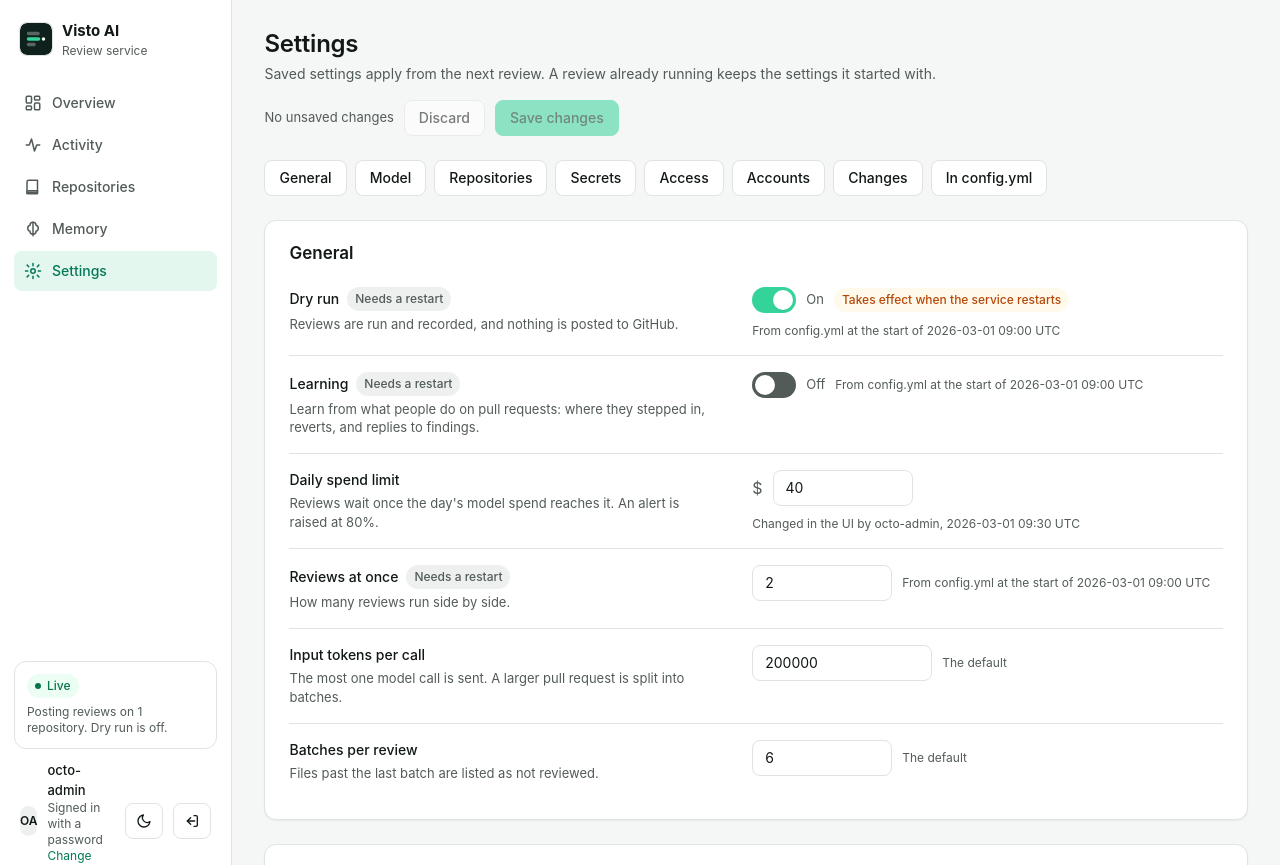
Test: a save refused shows each issue at its setting and all of them at the top, and keeps the changes
expect the element "General" is shown: met, box x1=264 y1=220 x2=1248 y2=820
Click the switch named "Learning" in the row of "Learning": (774,384) x1=752 y1=372 x2=796 y2=398
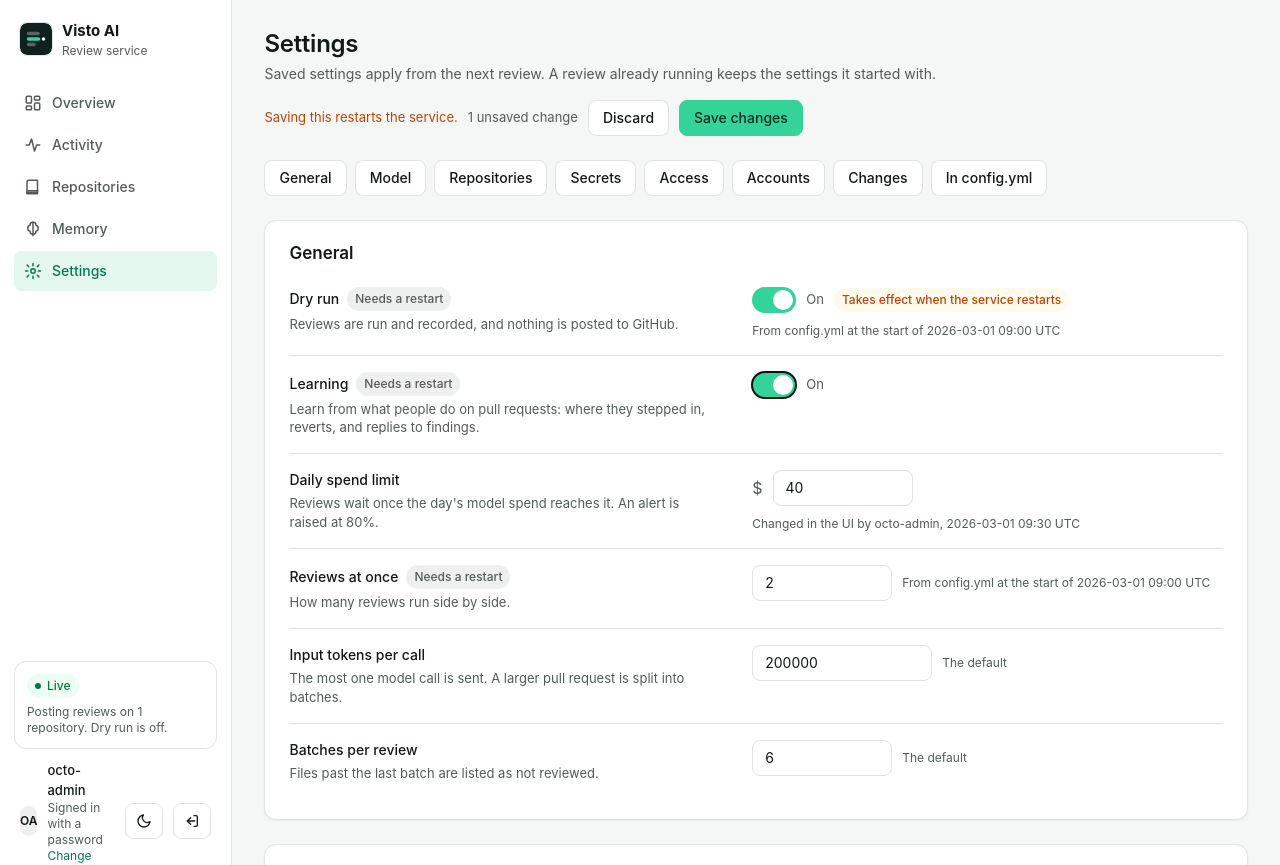
Click the button "Save changes": (741,118) x1=679 y1=100 x2=803 y2=136
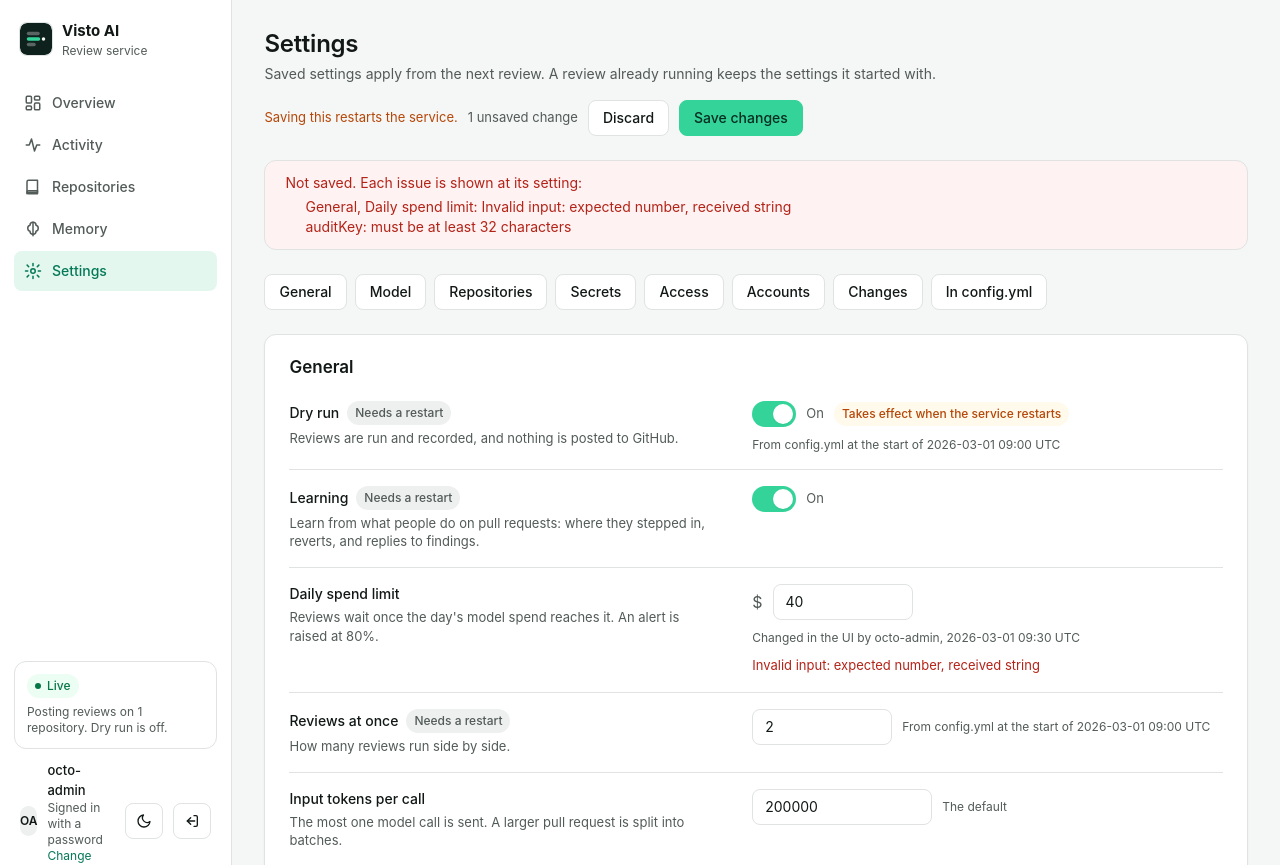
expect the text "1 unsaved change" is shown: met, box x1=468 y1=108 x2=578 y2=128
expect the message shows "Not saved. Each issue is shown at its setting:": met, box x1=286 y1=174 x2=582 y2=191
expect the list items read "General, Daily spend limit: Invalid input: expected number, received string", "auditKey: must be at least 32 characters", in this order: met, box x1=306 y1=198 x2=791 y2=215; x1=306 y1=218 x2=571 y2=235
